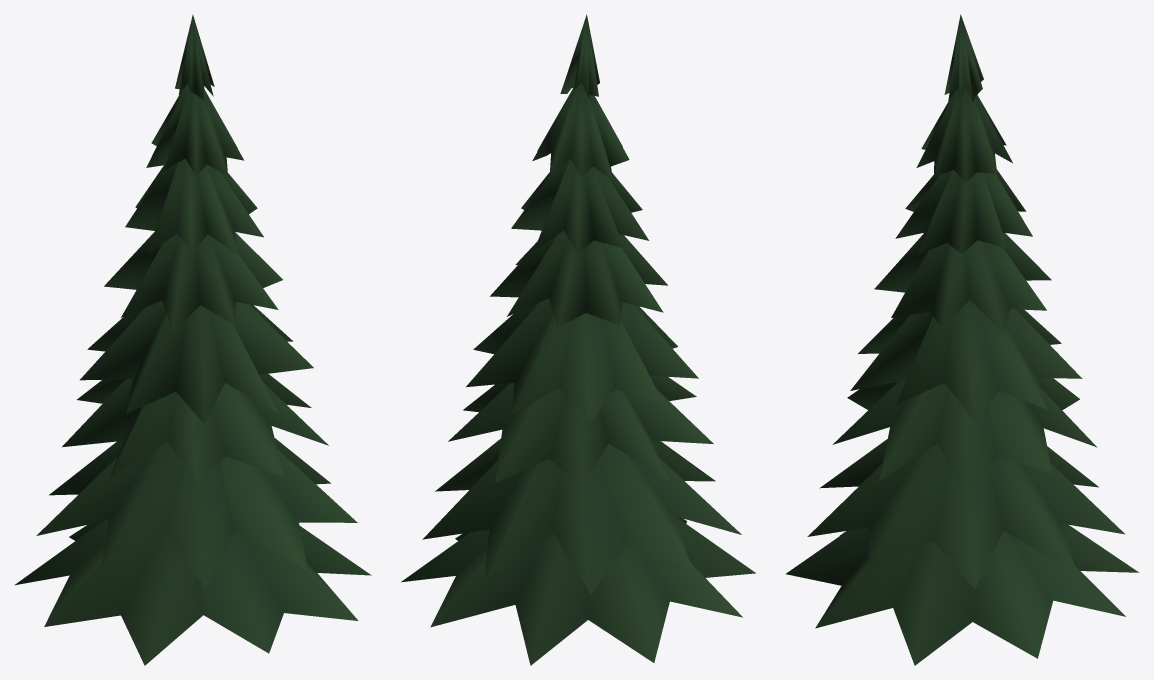
Rendered from env_spruce_c.glb.
3 renders of one model, left to right at view 1: azimuth 30°, elevation 25°; view 2: azimuth 150°, elevation 25°; view 3: azimuth 270°, elevation 25°, orthographic.
Visible parts, largest first — view 1: env_spruce_c; view 2: env_spruce_c; view 3: env_spruce_c.
Part boxes in pixels (box(x1,y1,x2,y2)): env_spruce_c: box(14, 14, 371, 665); env_spruce_c: box(401, 14, 755, 665); env_spruce_c: box(786, 14, 1139, 665).
Bounding box in the file's own units: 6.13 × 11.14 × 6.15.
